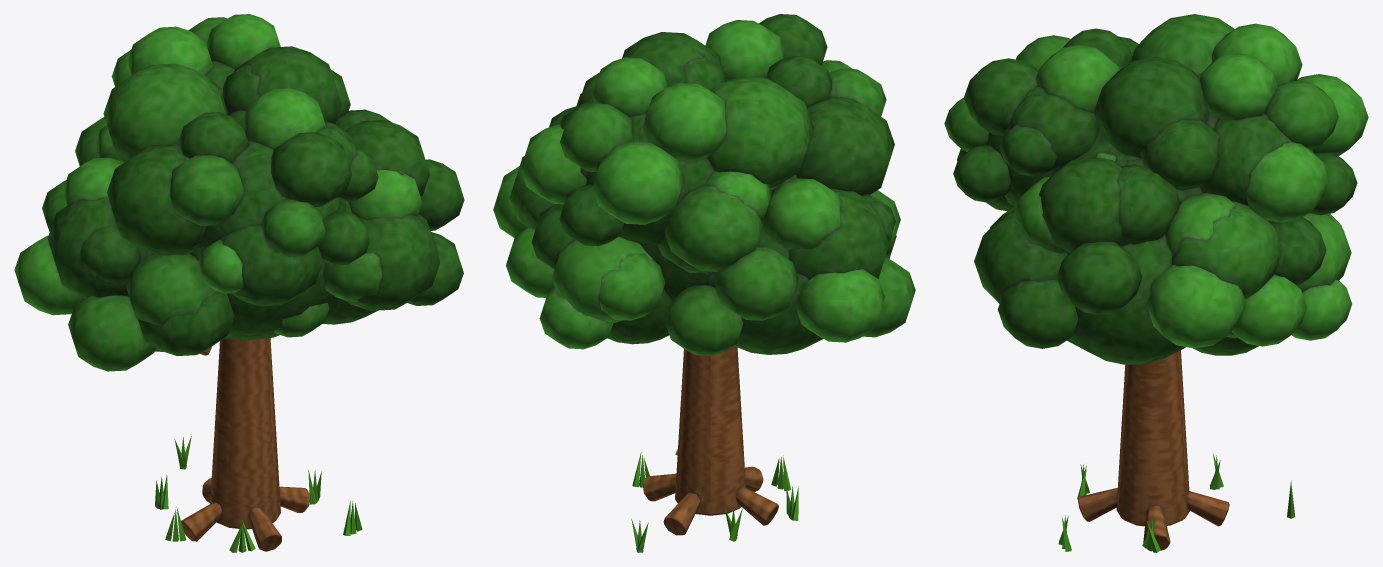
The model's file is pecan_tree.glb.
The picture shows the model from 3 angles, left to right: view 1: azimuth 30°, elevation 25°; view 2: azimuth 150°, elevation 25°; view 3: azimuth 270°, elevation 25°; orthographic projection. The views are drawn at different scales.
Visible parts, largest first — view 1: crown, pecan_tree; view 2: crown, pecan_tree; view 3: crown, pecan_tree.
Boxes of the visible parts, left/top/right/bottom form: crown: left=14, top=14, right=464, bottom=371; pecan_tree: left=155, top=338, right=362, bottom=552; crown: left=493, top=14, right=915, bottom=355; pecan_tree: left=631, top=345, right=798, bottom=552; crown: left=944, top=14, right=1368, bottom=364; pecan_tree: left=1058, top=350, right=1295, bottom=552.
Size of the model in its own units: 1.13 by 1.3 by 1.03.
Materials: 1 (1 with a texture image).
